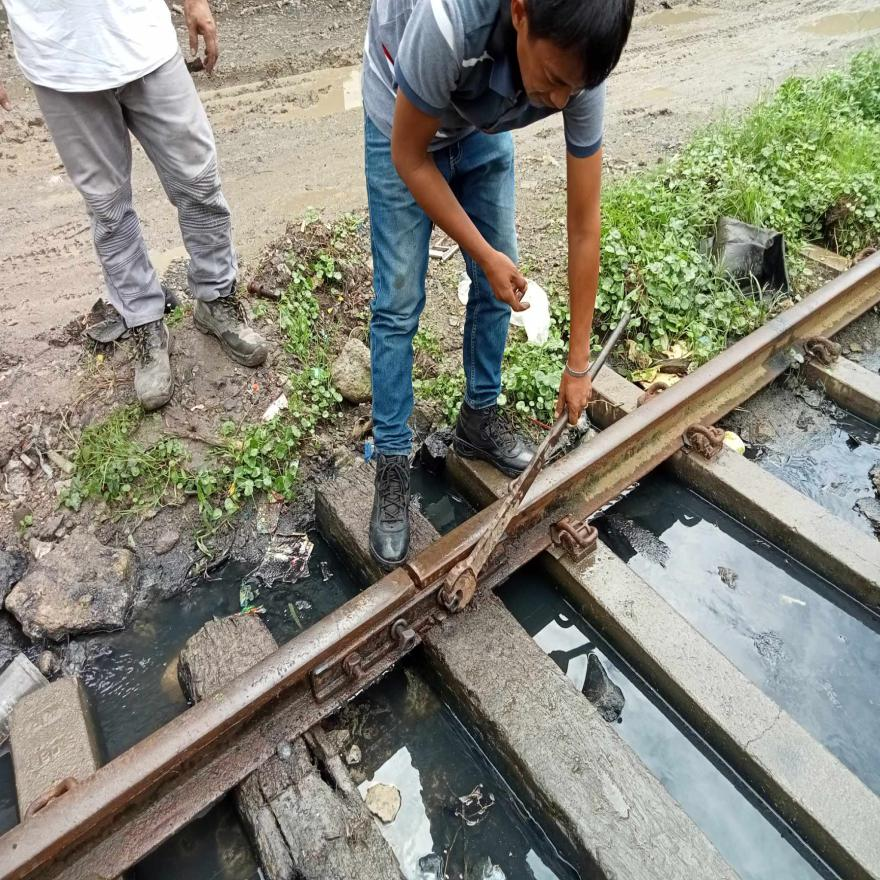railway-gap: (388, 540, 436, 608)
